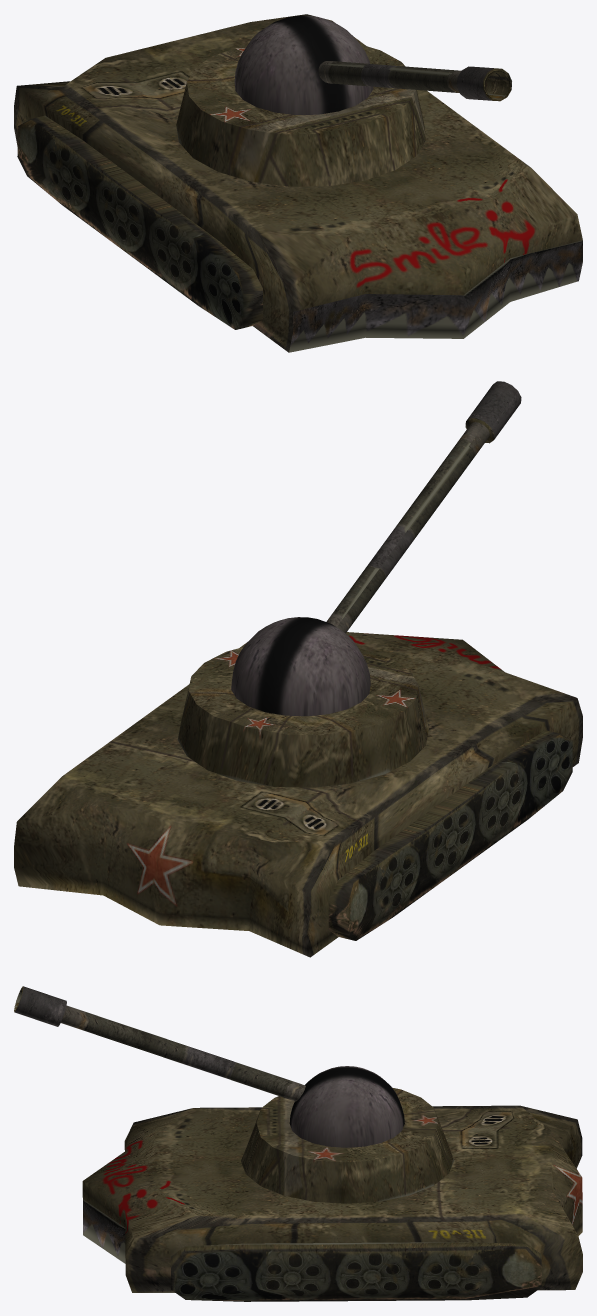
The model's file is tanque.fbx.
The picture shows the model from 3 angles, top to bottom: view 1: azimuth 30°, elevation 25°; view 2: azimuth 150°, elevation 25°; view 3: azimuth 270°, elevation 25°; orthographic projection. The views are drawn at different scales.
Parts seen in each view (by area): view 1: TanqueCuerpo, CanonBaseMovHorizontal, TanqueRuedasIzquierda, CanonBaseMovVertical, CanonTubo, CanonBoca; view 2: TanqueCuerpo, CanonBaseMovHorizontal, TanqueRuedasIzquierda, CanonBaseMovVertical, CanonTubo, CanonBoca; view 3: TanqueCuerpo, TanqueRuedasDerecha, CanonBaseMovHorizontal, CanonBaseMovVertical, CanonTubo, CanonBoca.
Boxes of the visible parts, left/top/right/bottom form: TanqueCuerpo: left=14, top=14, right=582, bottom=352; CanonBaseMovHorizontal: left=176, top=44, right=426, bottom=186; TanqueRuedasIzquierda: left=17, top=115, right=262, bottom=329; CanonBaseMovVertical: left=234, top=15, right=373, bottom=114; CanonTubo: left=318, top=61, right=460, bottom=92; CanonBoca: left=457, top=66, right=511, bottom=101; TanqueCuerpo: left=14, top=632, right=582, bottom=957; CanonBaseMovHorizontal: left=177, top=647, right=428, bottom=787; TanqueRuedasIzquierda: left=328, top=730, right=572, bottom=940; CanonBaseMovVertical: left=231, top=617, right=370, bottom=716; CanonTubo: left=326, top=422, right=489, bottom=633; CanonBoca: left=465, top=381, right=521, bottom=443; TanqueCuerpo: left=82, top=1105, right=582, bottom=1292; TanqueRuedasDerecha: left=171, top=1242, right=541, bottom=1301; CanonBaseMovHorizontal: left=241, top=1087, right=454, bottom=1203; CanonBaseMovVertical: left=289, top=1066, right=404, bottom=1147; CanonTubo: left=61, top=1005, right=305, bottom=1101; CanonBoca: left=14, top=986, right=66, bottom=1026.
Bounding box in the file's own units: 3.39 × 2.93 × 6.14.
Materials: 1 (1 with a texture image).
